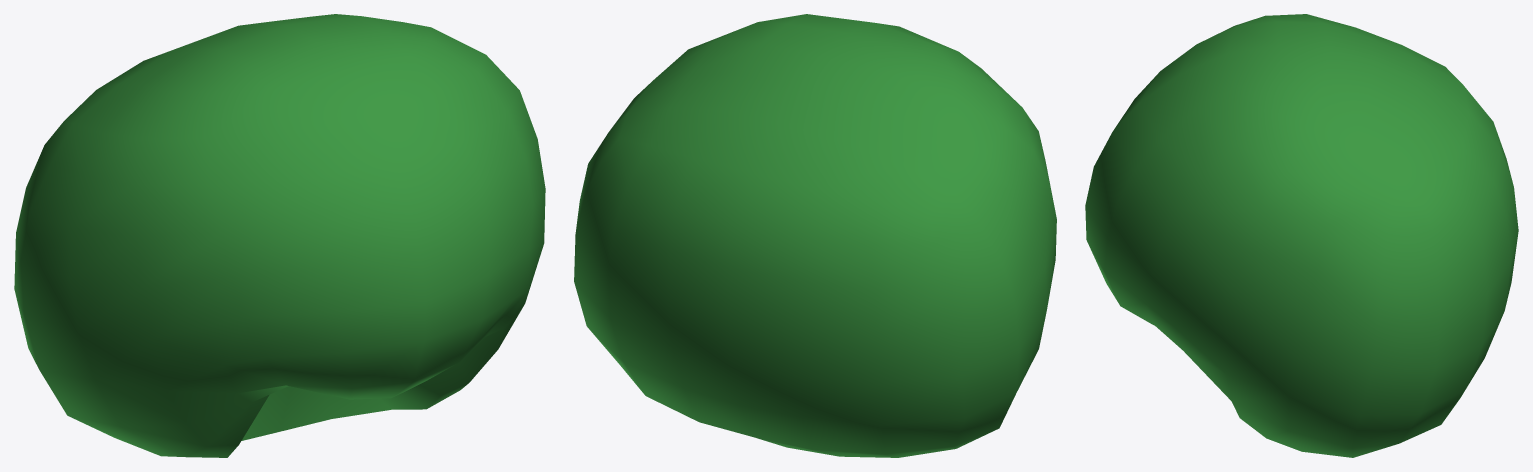
The model's file is Disco_Hairs_05.fbx.
3 renders of one model, left to right at view 1: azimuth 30°, elevation 25°; view 2: azimuth 150°, elevation 25°; view 3: azimuth 270°, elevation 25°, orthographic. The views are drawn at different scales.
Parts seen in each view (by area): view 1: Disco_Hairs_05; view 2: Disco_Hairs_05; view 3: Disco_Hairs_05.
Boxes of the visible parts, box(x1,y1,x2,y2) form: Disco_Hairs_05: box(14, 14, 545, 457); Disco_Hairs_05: box(574, 14, 1056, 457); Disco_Hairs_05: box(1085, 14, 1518, 457).
Bounding box in the file's own units: 117 × 96.92 × 103.
